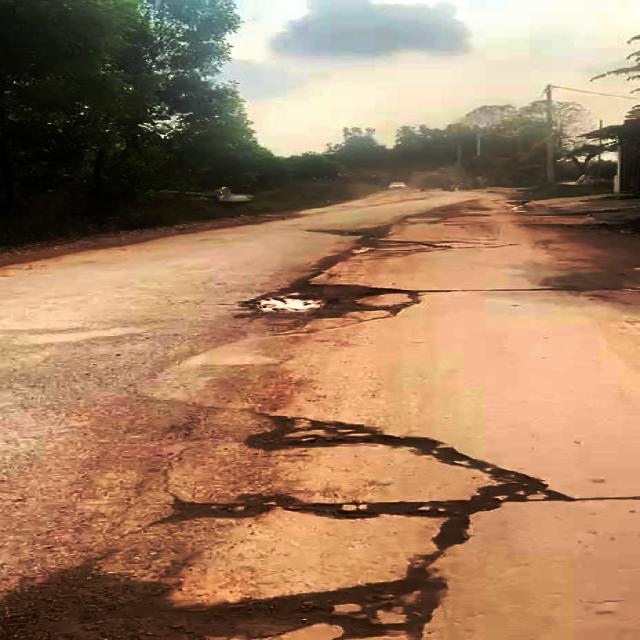pothole: (189, 408, 559, 528), (28, 554, 464, 640), (247, 282, 416, 322)
